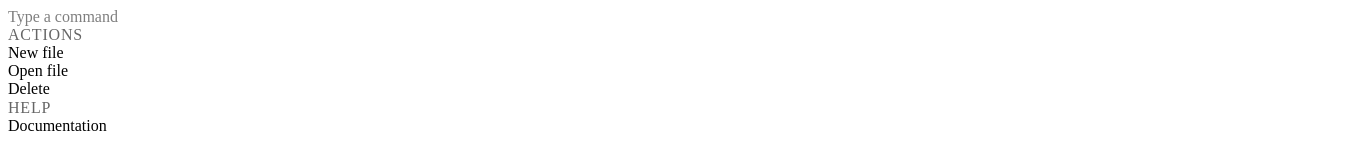
Scenario: Command › shows the empty state when nothing matches
Type "zzzzzz" into the dropdown at x=683, y=17, box left=8, top=8, right=1358, bottom=26
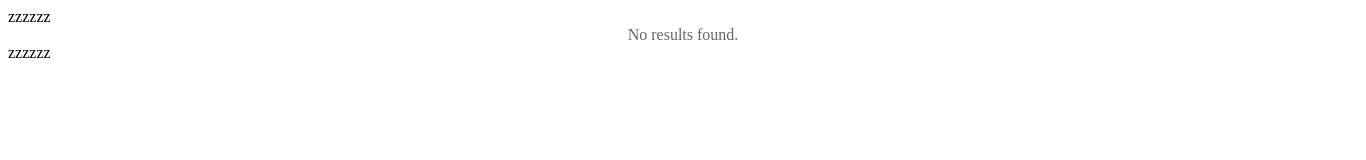
Check: the text "No results found." is shown, box left=628, top=26, right=738, bottom=43
Check: no options with class "sve-command__item" are shown
